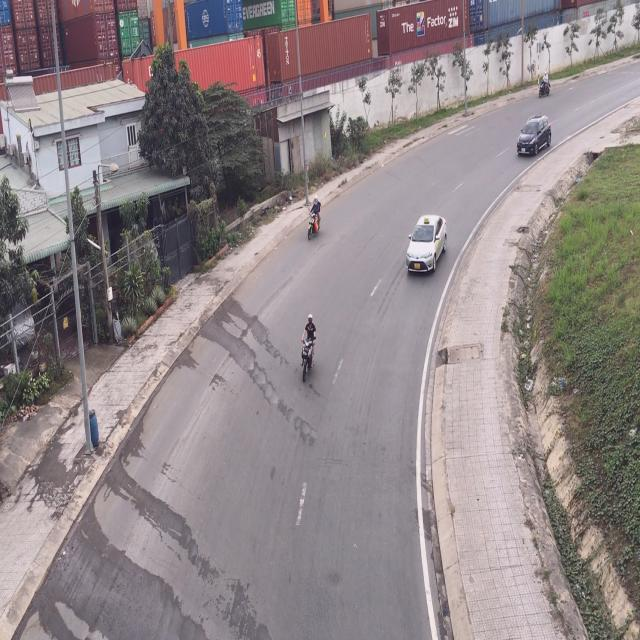car: (405, 214, 447, 276), (516, 116, 552, 160)
motorbike: (301, 314, 318, 386), (307, 196, 323, 243), (538, 73, 550, 98)
